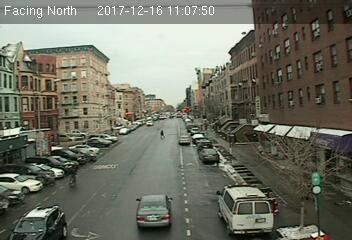bicycle: (65, 165, 77, 188)
car: (135, 195, 172, 227), (199, 149, 219, 164), (179, 135, 190, 146)
police: (216, 184, 273, 235)
